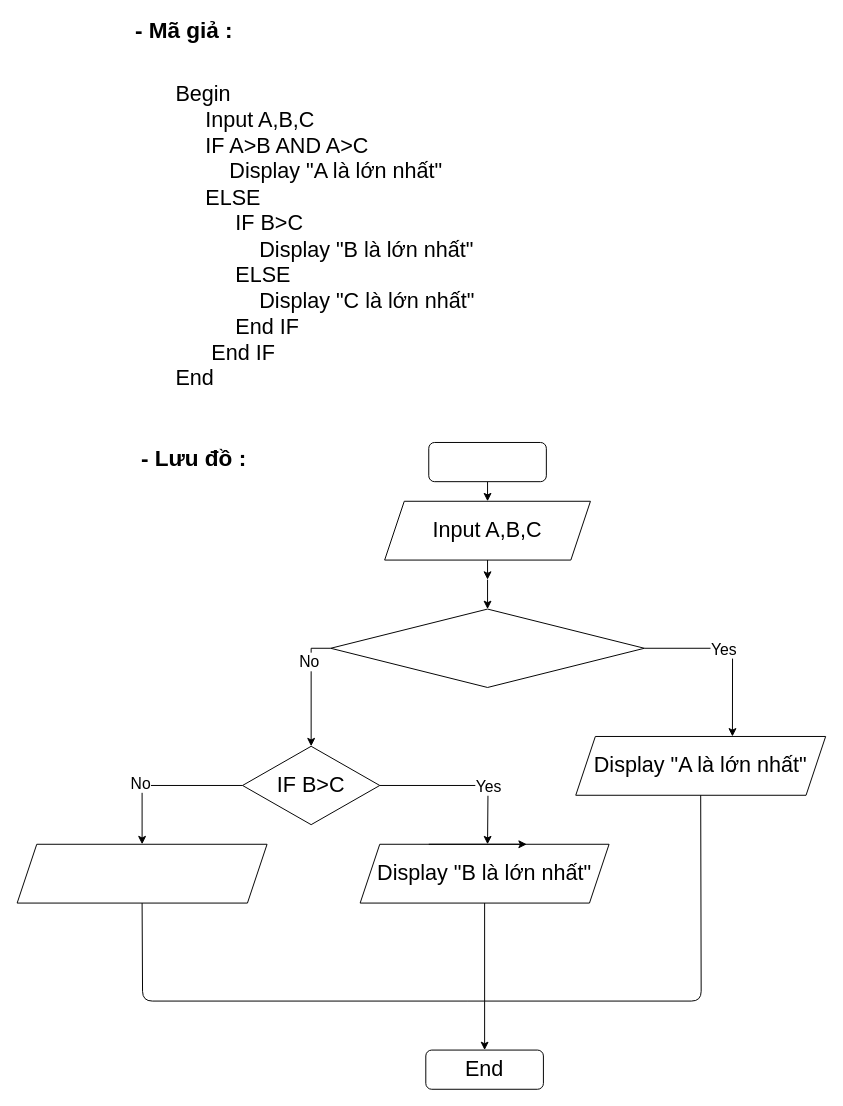
Image size: 843x1106. Some labels were removed from this diagram. The centre of each missing label's shape, as x and y in pixels:
Begin: pixel 487 461
Display "C là lớn nhất": pixel 141 873
IF A>B AND A>C: pixel 487 647
